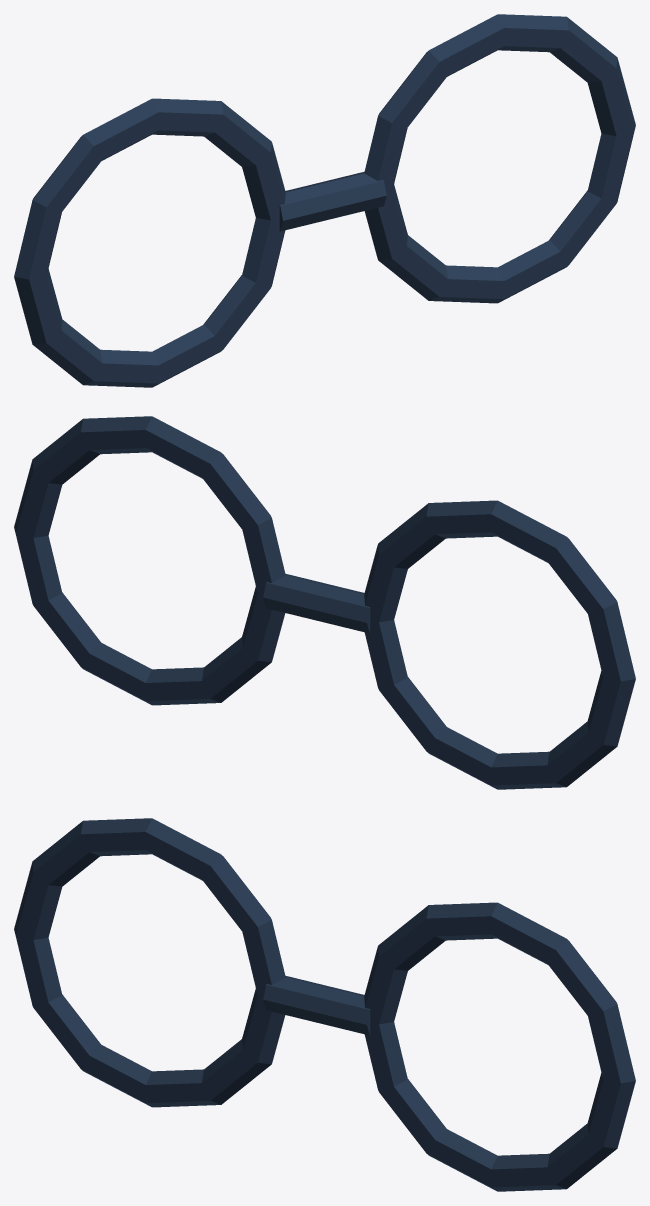
The model's file is Modular_Glasses.fbx.
3 renders of one model, top to bottom at view 1: azimuth 30°, elevation 25°; view 2: azimuth 150°, elevation 25°; view 3: azimuth 330°, elevation 25°, orthographic.
Visible parts, largest first — view 1: GlassesFrame.004, GlassesFrame.005, GlassesBridge.002; view 2: GlassesFrame.004, GlassesFrame.005, GlassesBridge.002; view 3: GlassesFrame.005, GlassesFrame.004, GlassesBridge.002.
Boxes of the visible parts, left/top/right/bottom form: GlassesFrame.004: left=14, top=98, right=285, bottom=387; GlassesFrame.005: left=364, top=14, right=635, bottom=303; GlassesBridge.002: left=279, top=171, right=386, bottom=231; GlassesFrame.004: left=364, top=500, right=635, bottom=789; GlassesFrame.005: left=14, top=416, right=285, bottom=705; GlassesBridge.002: left=263, top=573, right=370, bottom=633; GlassesFrame.005: left=364, top=902, right=635, bottom=1191; GlassesFrame.004: left=14, top=818, right=285, bottom=1107; GlassesBridge.002: left=263, top=975, right=370, bottom=1035.
Size of the model in its own units: 0.18 by 0.08 by 0.01.
